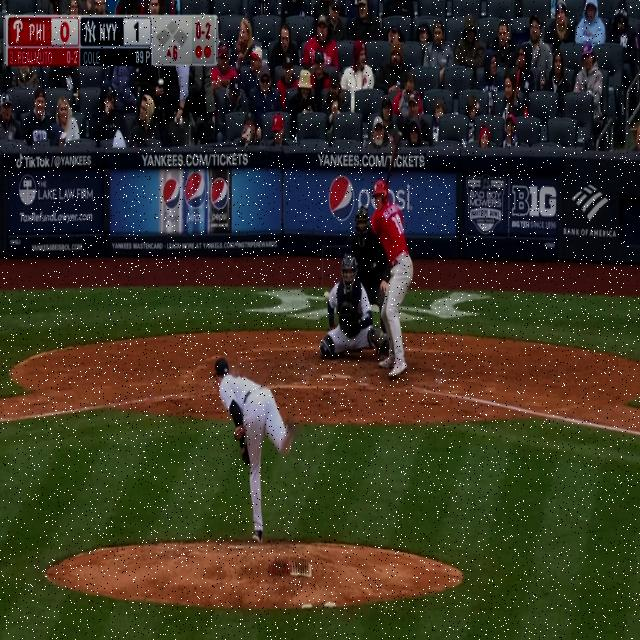baseball: (324, 291, 329, 301)
